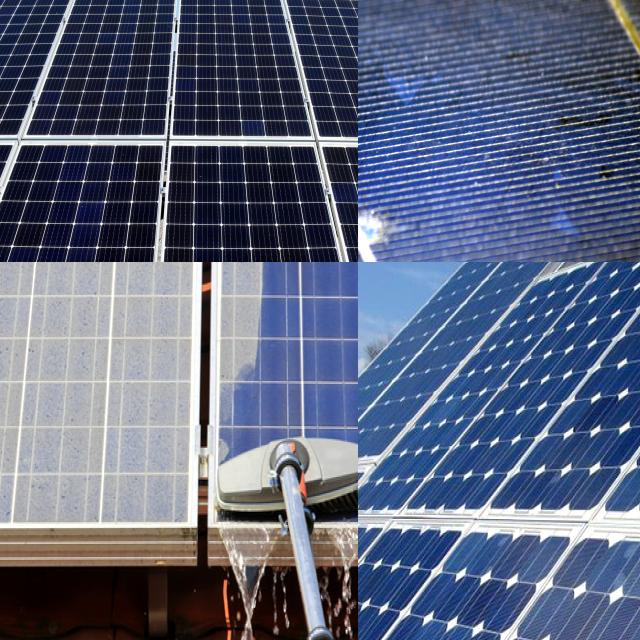crack: (467, 262, 640, 612), (358, 262, 605, 504), (25, 0, 192, 181), (133, 129, 358, 262), (152, 0, 315, 181), (0, 136, 168, 262), (270, 0, 358, 177)
dust: (36, 394, 175, 520), (219, 262, 358, 378), (60, 262, 184, 386), (0, 262, 118, 380), (0, 393, 105, 515)
shadow: (358, 185, 434, 262)
